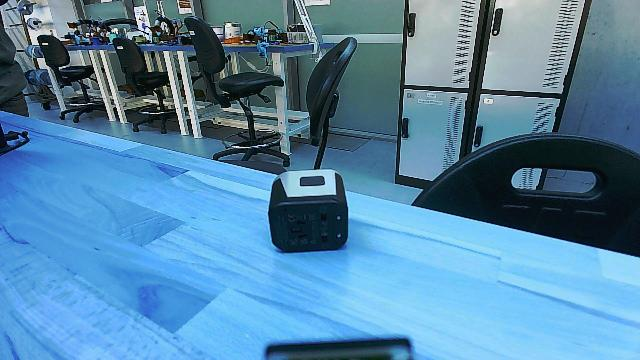adapter: (268, 160, 348, 253)
